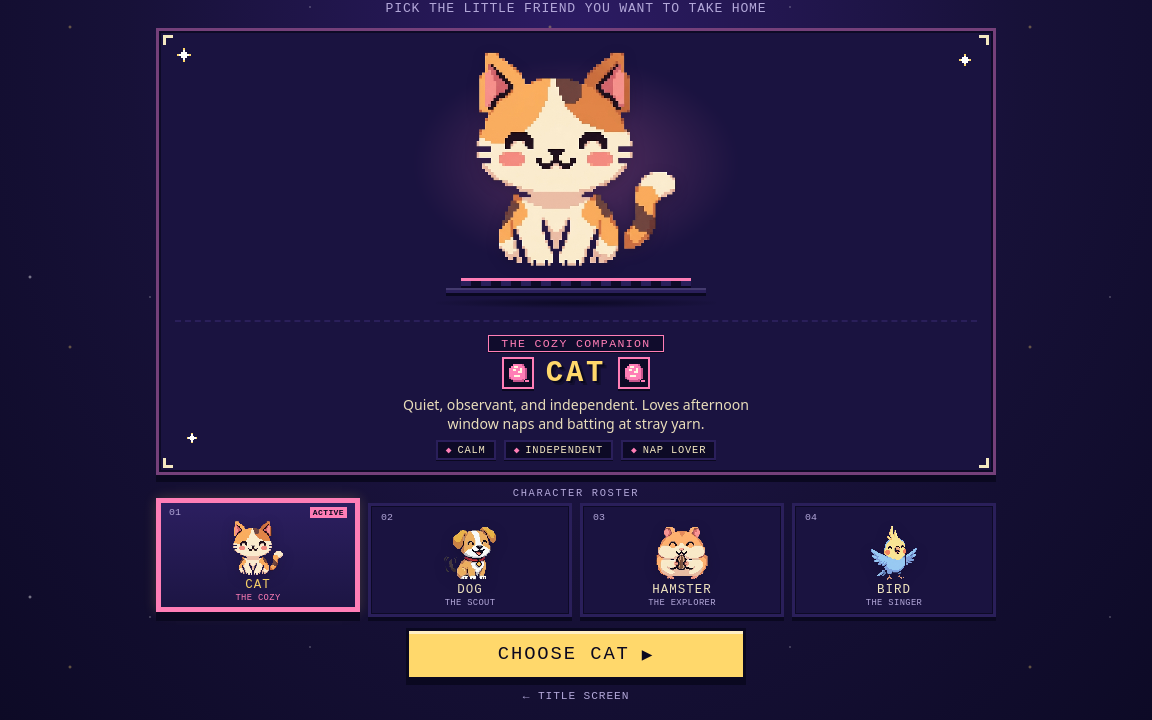
Test case: PetSelectRoute & Pet Preview Rendering › renders all four character roster options with interactive radio states
This screenshot has width=1152, height=720.
(page scrolled)
// Click Dog to switch selection
Click the radio button labelled "02 Dog The Scout": (470, 560) [368, 503, 572, 617]
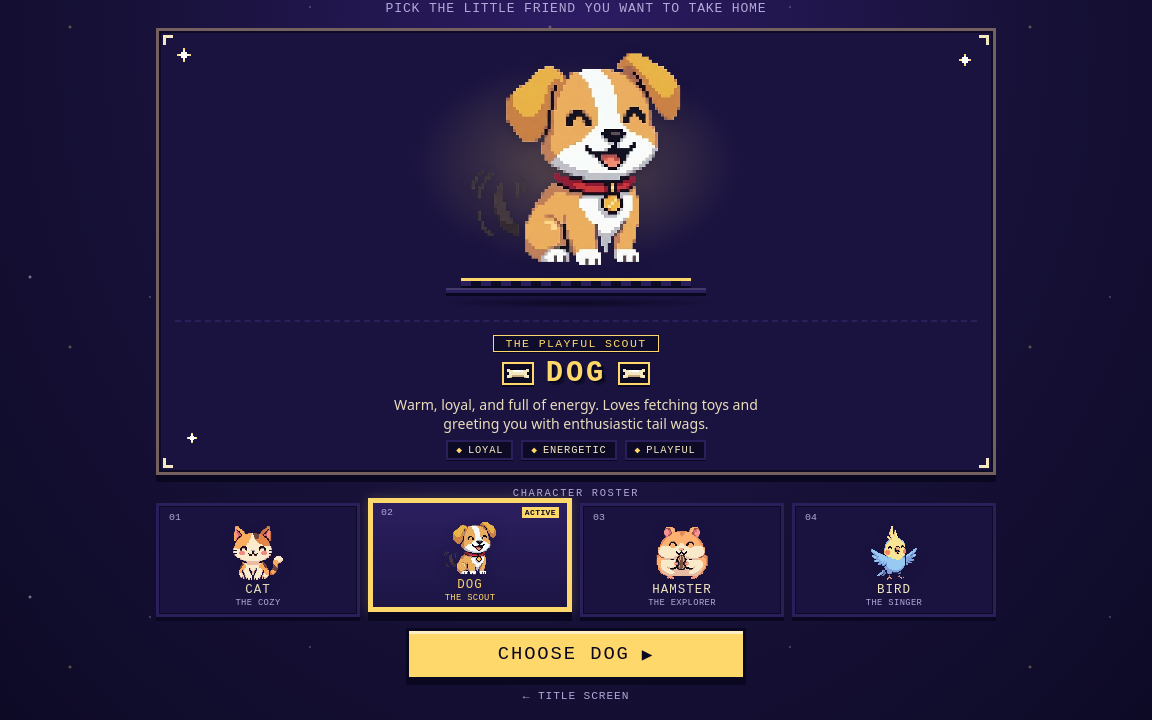
Check: the button "CHOOSE DOG ▶" is shown, box [406, 628, 746, 680]
